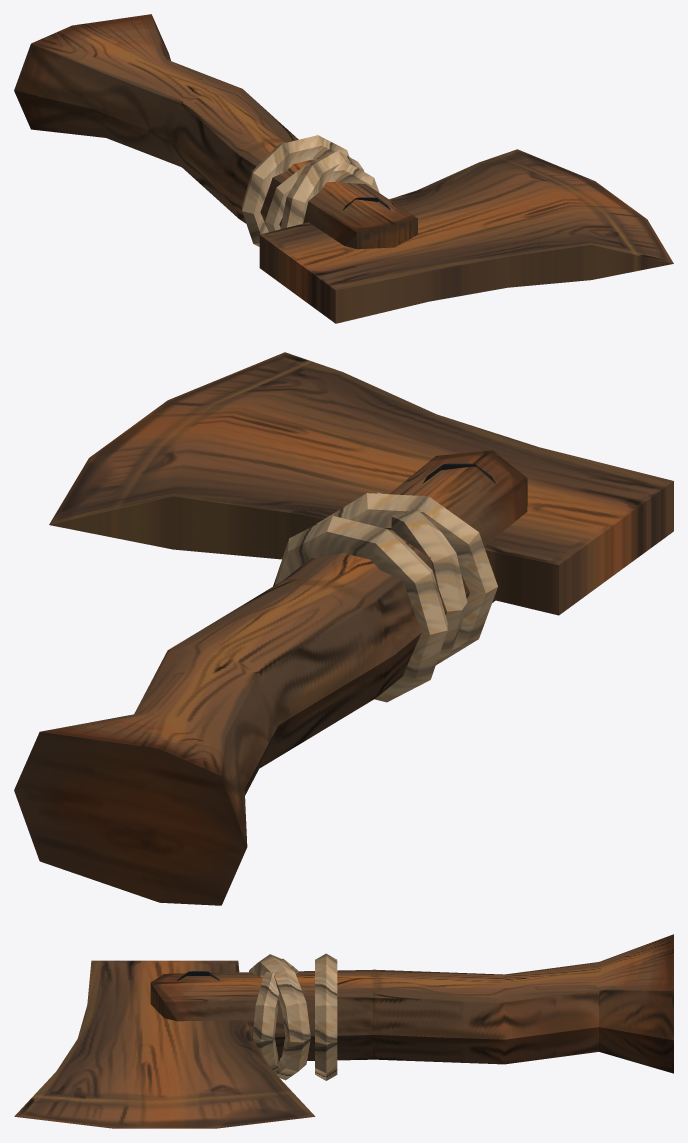
Rendered from Wood_Axe.fbx.
3 renders of one model, top to bottom at view 1: azimuth 30°, elevation 25°; view 2: azimuth 150°, elevation 25°; view 3: azimuth 270°, elevation 25°, orthographic. The views are drawn at different scales.
Visible parts, largest first — view 1: Wood_Axe; view 2: Wood_Axe; view 3: Wood_Axe.
Boxes of the visible parts, x1,y1,x2,y2 form: Wood_Axe: (14,14,673,323); Wood_Axe: (14,352,673,905); Wood_Axe: (14,934,673,1128).
Bounding box in the file's own units: 625 × 200 × 1080.
